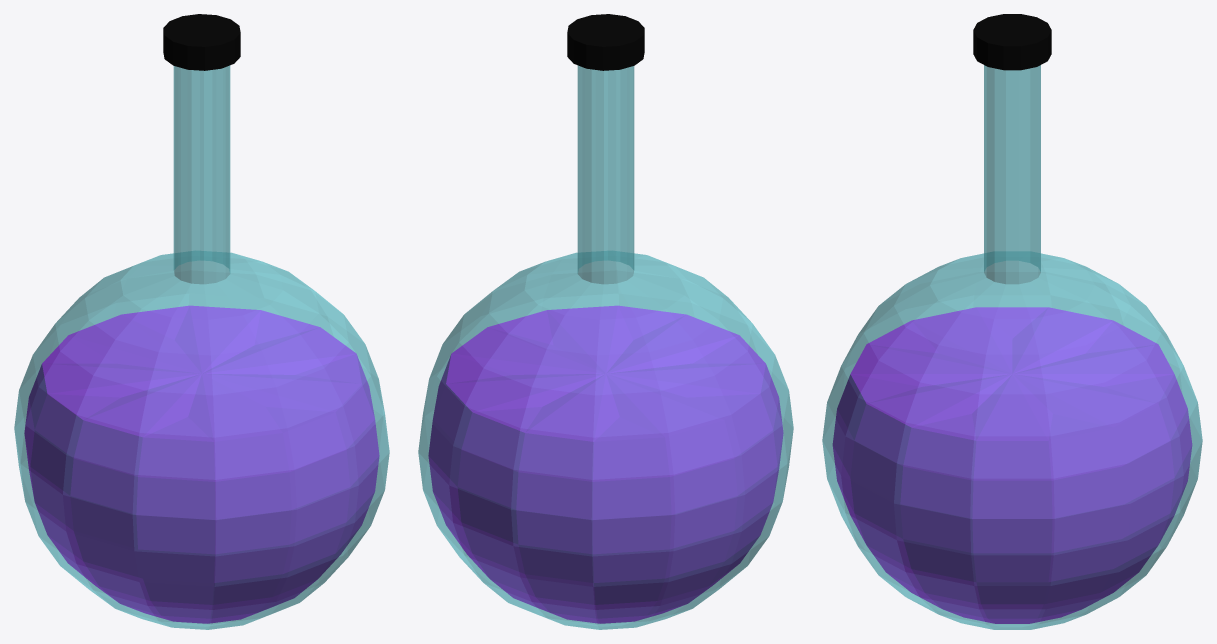
Rendered from PoisonBottle.fbx.
3 views of the same model, side by side, from view 1: azimuth 30°, elevation 25°; view 2: azimuth 150°, elevation 25°; view 3: azimuth 270°, elevation 25° (orthographic).
Visible parts, largest first — view 1: PoisonBottle; view 2: PoisonBottle; view 3: PoisonBottle.
Boxes of the visible parts, <box> form: PoisonBottle: <box>14,14,389,629</box>; PoisonBottle: <box>418,14,793,629</box>; PoisonBottle: <box>822,14,1202,629</box>.
Bounding box in the file's own units: 0.539 × 0.5529 × 0.9294.
